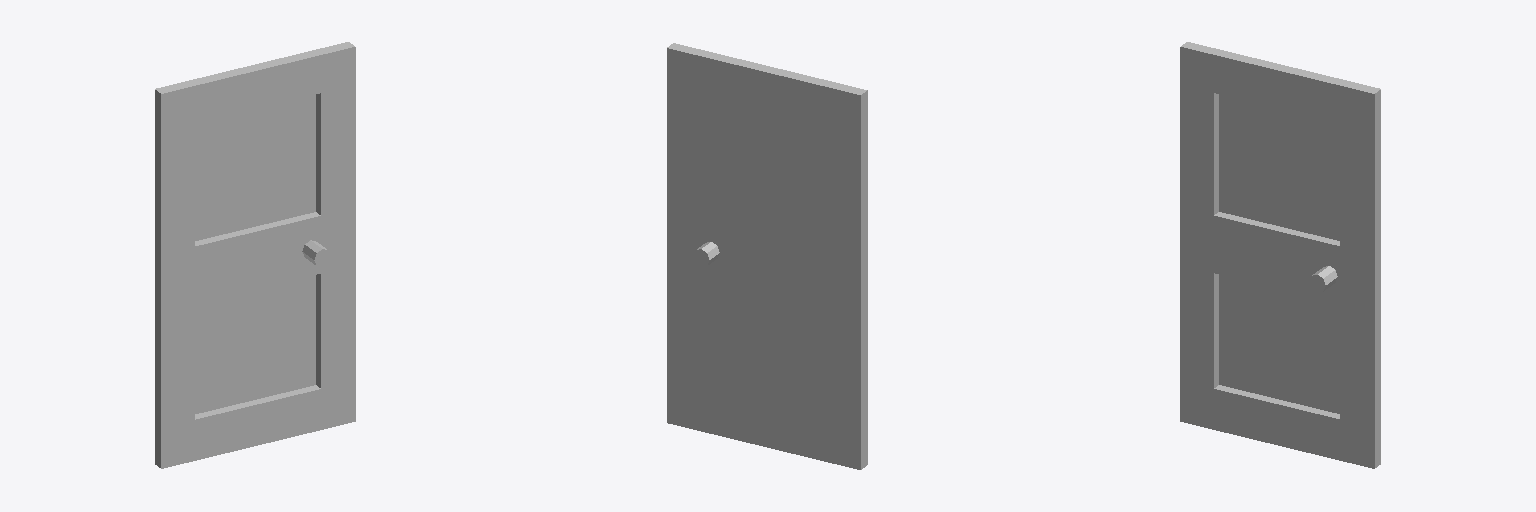
Rendered from door.obj.
The picture shows the model from 3 angles: view 1: azimuth 30°, elevation 25°; view 2: azimuth 150°, elevation 25°; view 3: azimuth 330°, elevation 25°; orthographic projection.
Visible parts, largest first — view 1: Door_Cube.007; view 2: Door_Cube.007; view 3: Door_Cube.007.
Boxes of the visible parts, <box> form: Door_Cube.007: <box>155,42,355,468</box>; Door_Cube.007: <box>667,43,867,469</box>; Door_Cube.007: <box>1180,42,1380,468</box>.
Bounding box in the file's own units: 0.5989 × 1.11 × 0.156.